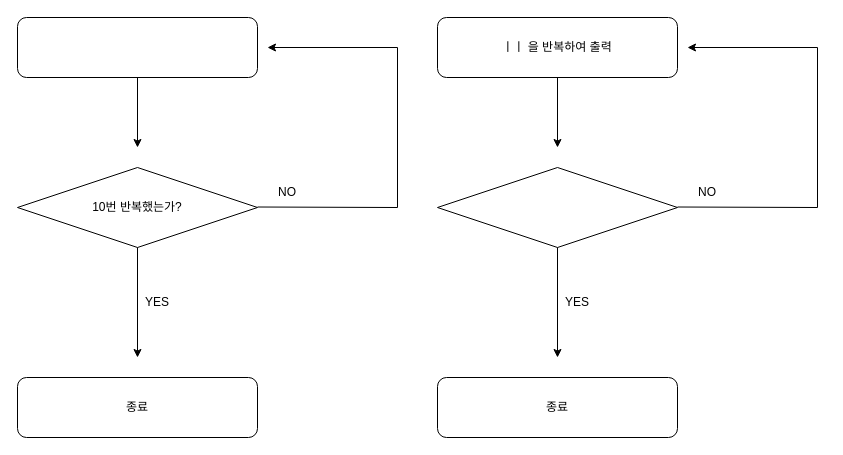
Image size: 843x455. Some labels were removed from this diagram. Here are the shapes that lost their labels. From the top down, the centre of each, then its label:
(x=137, y=47): **********을 반복하여 출력
(x=557, y=207): 4번 반복했는가?
